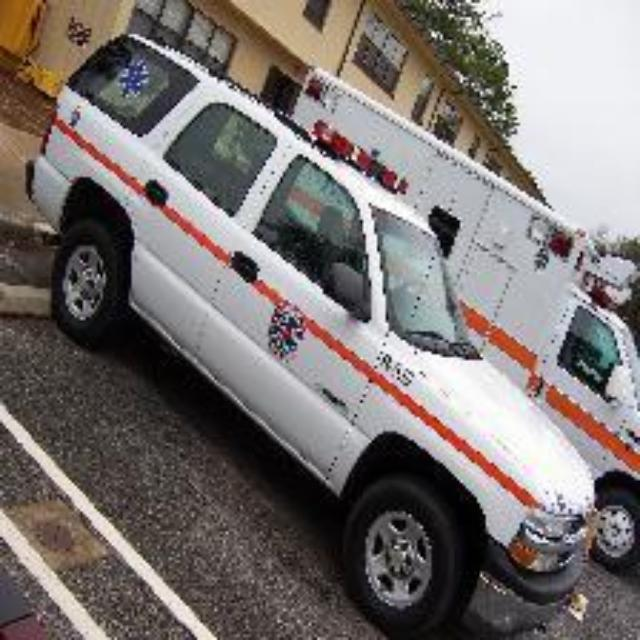emergency: (60, 24, 580, 598)
